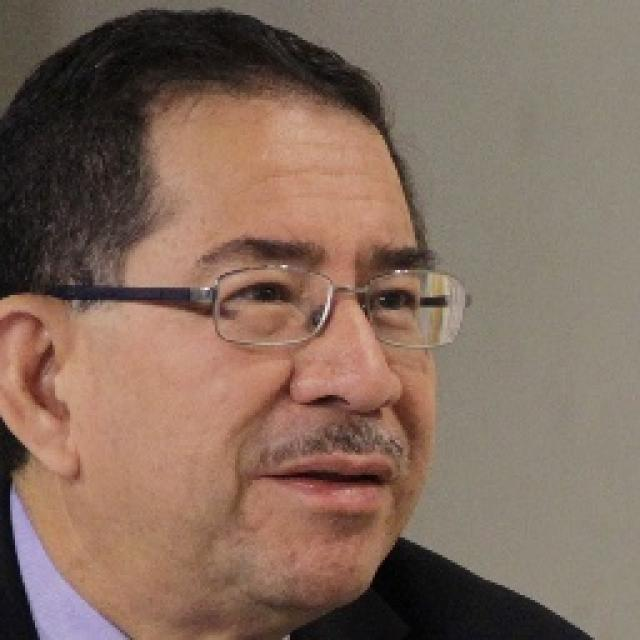earlobe: (30, 416, 81, 480)
eye: (230, 279, 298, 312), (370, 286, 420, 318)
nose: (298, 389, 398, 450)
wholeear: (0, 292, 80, 480)
